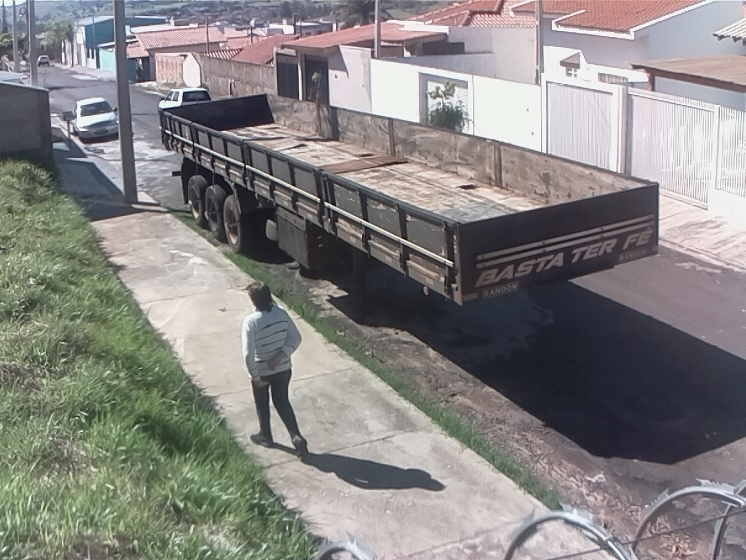person: (240, 280, 313, 464)
